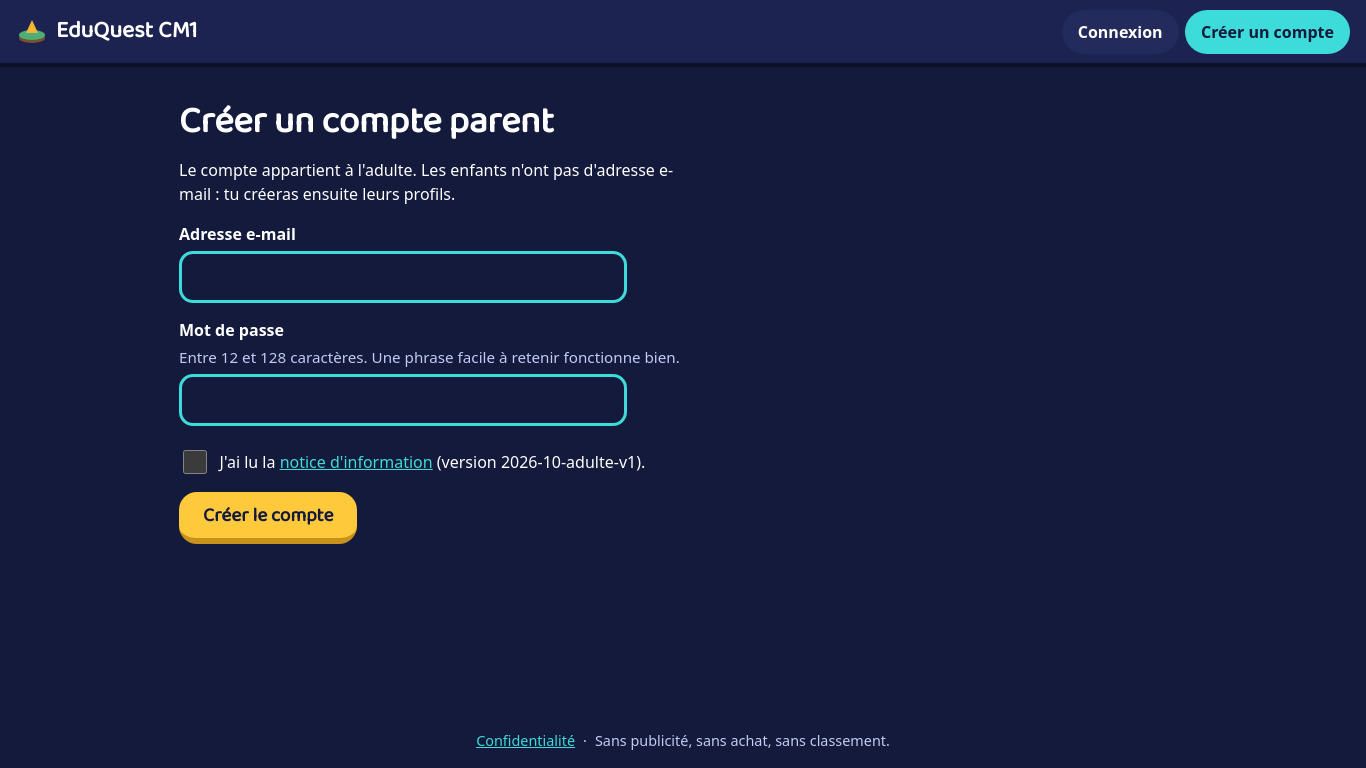
Test: formulaires adultes › l'inscription exige 12 caractères et la lecture de la notice avant tout envoi
Type "adulte@exemple.test" into the field labelled "Adresse e-mail".
click(403, 277); type("adulte@exemple.test")  # box [179,251,627,303]
Type "court" into the password field labelled "Mot de passe".
click(403, 400); type("court")  # box [179,374,627,426]
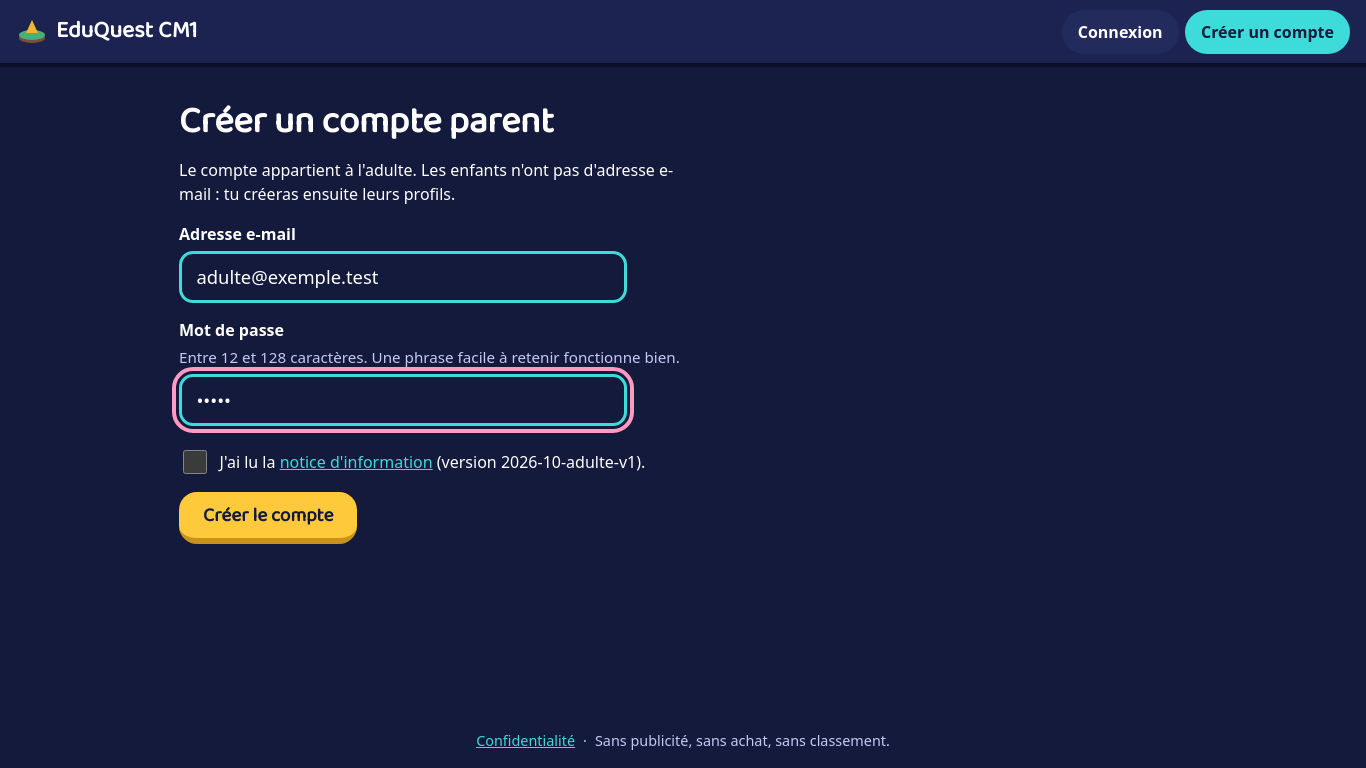
Click the button "Créer le compte".
click(268, 518)  # box [179,492,357,544]
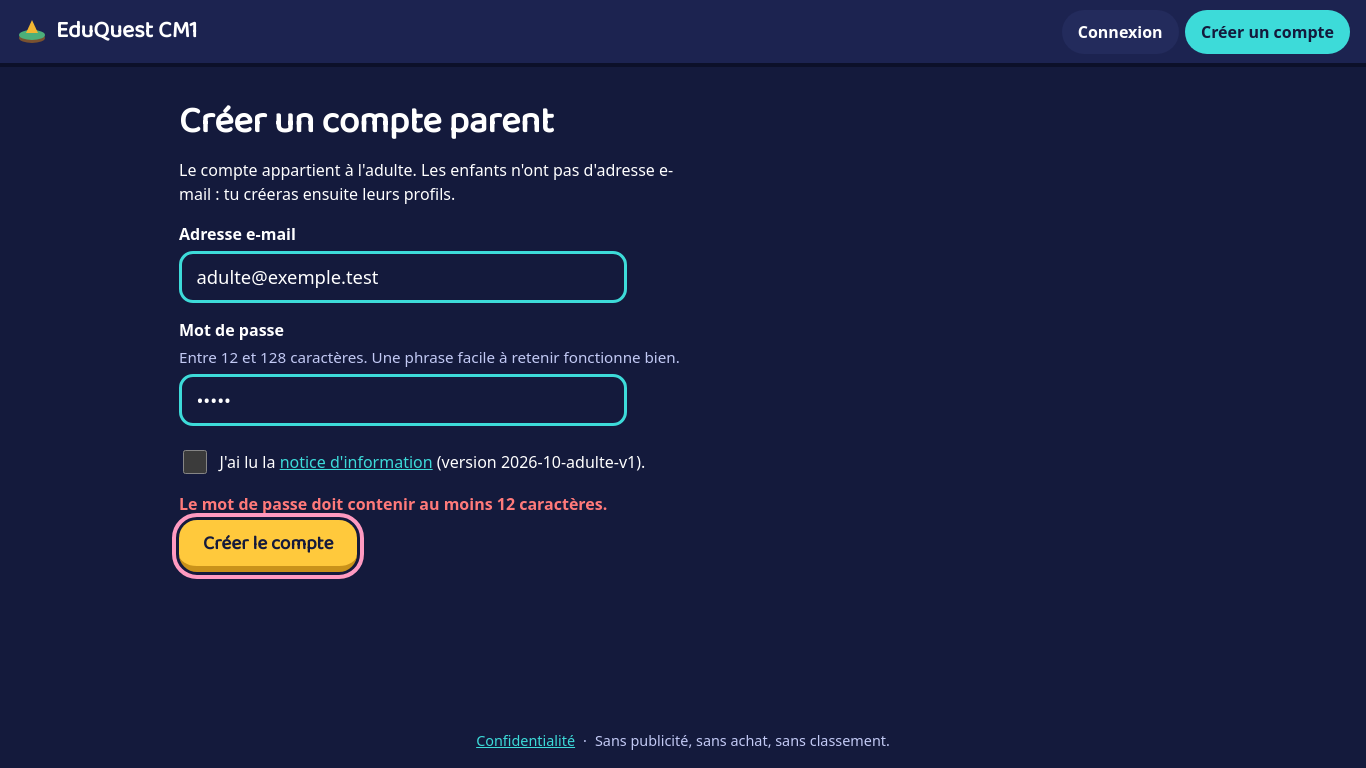
expect the message shows "au moins 12 caractères": met, box [179,493,607,515]
Type " mais assez long" into the password field labelled "Mot de passe".
click(403, 400); type(" mais assez long")  # box [179,374,627,426]
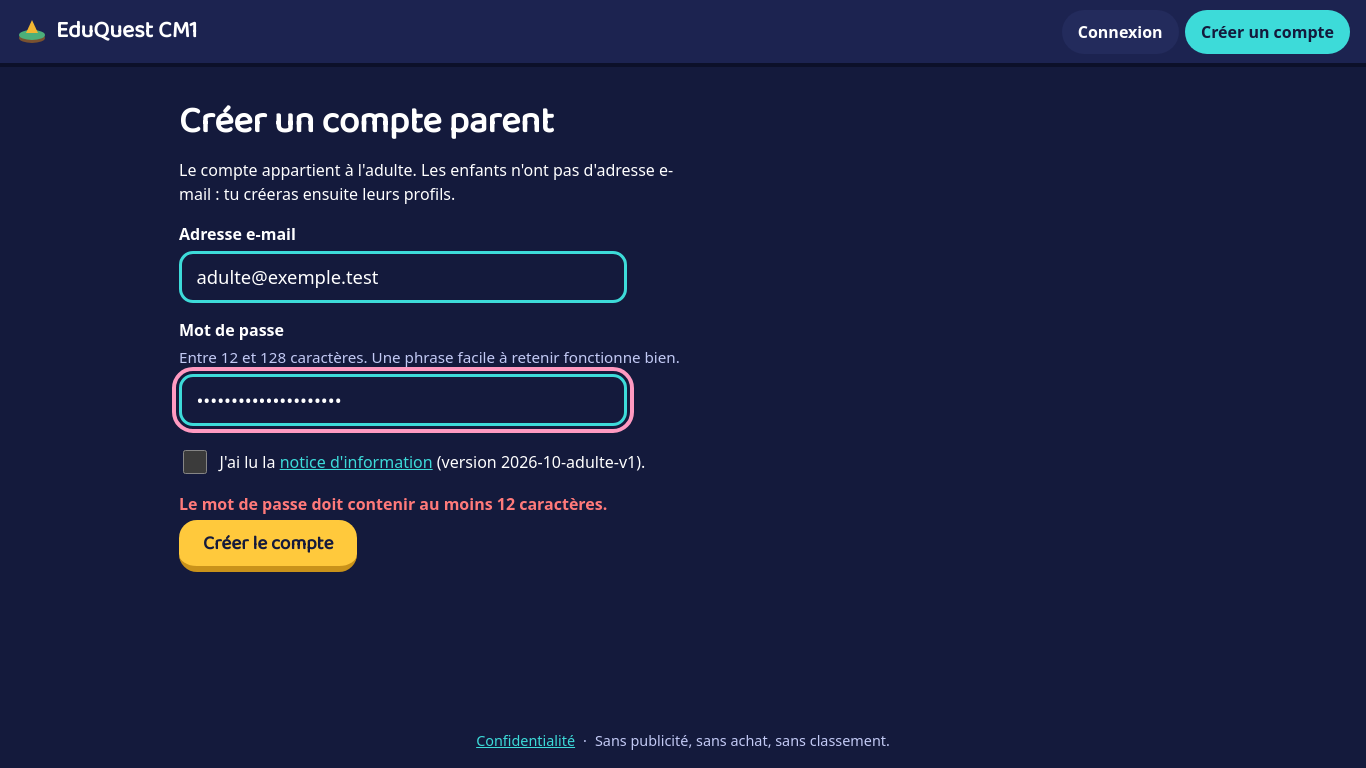
Click the button "Créer le compte".
click(268, 546)  # box [179,520,357,572]
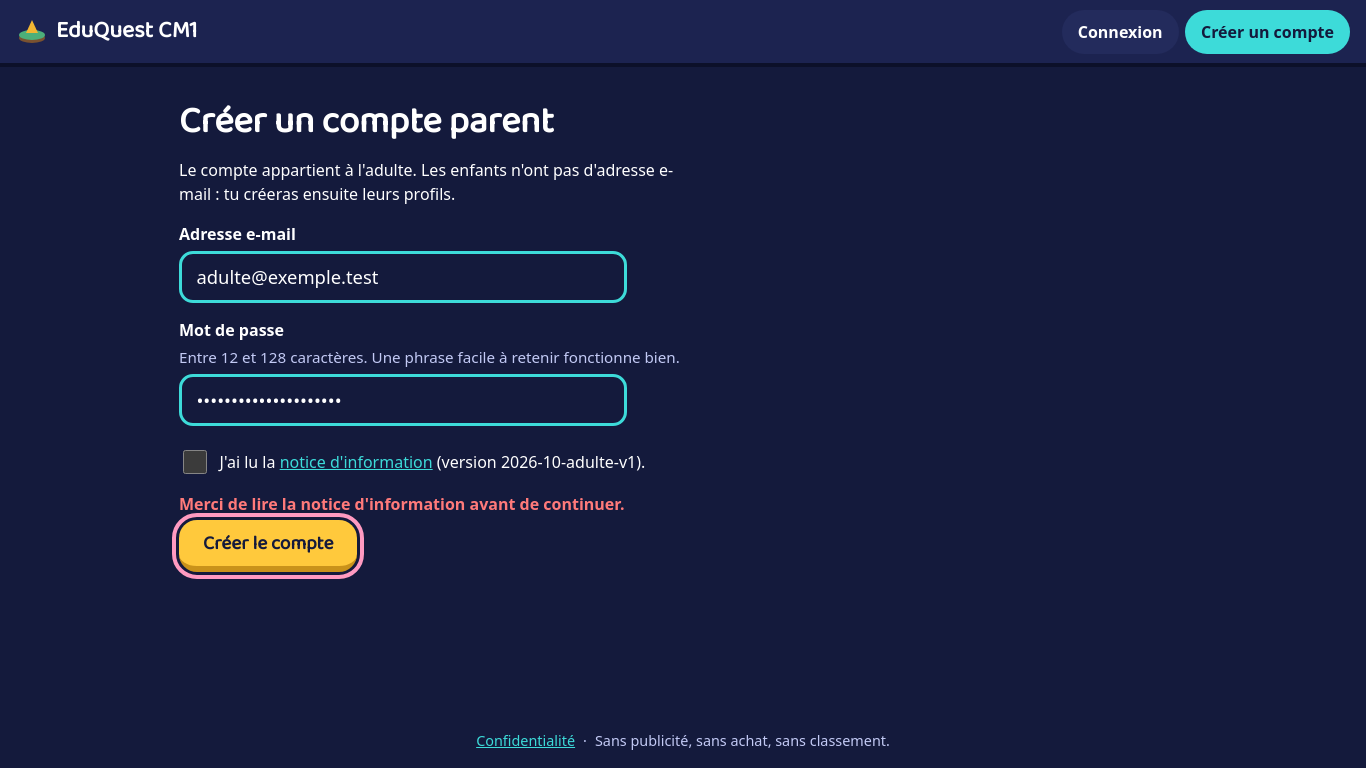
expect the message shows "notice": met, box [179,493,624,515]
Click the checkbox.
click(195, 462)  # box [183,450,207,474]
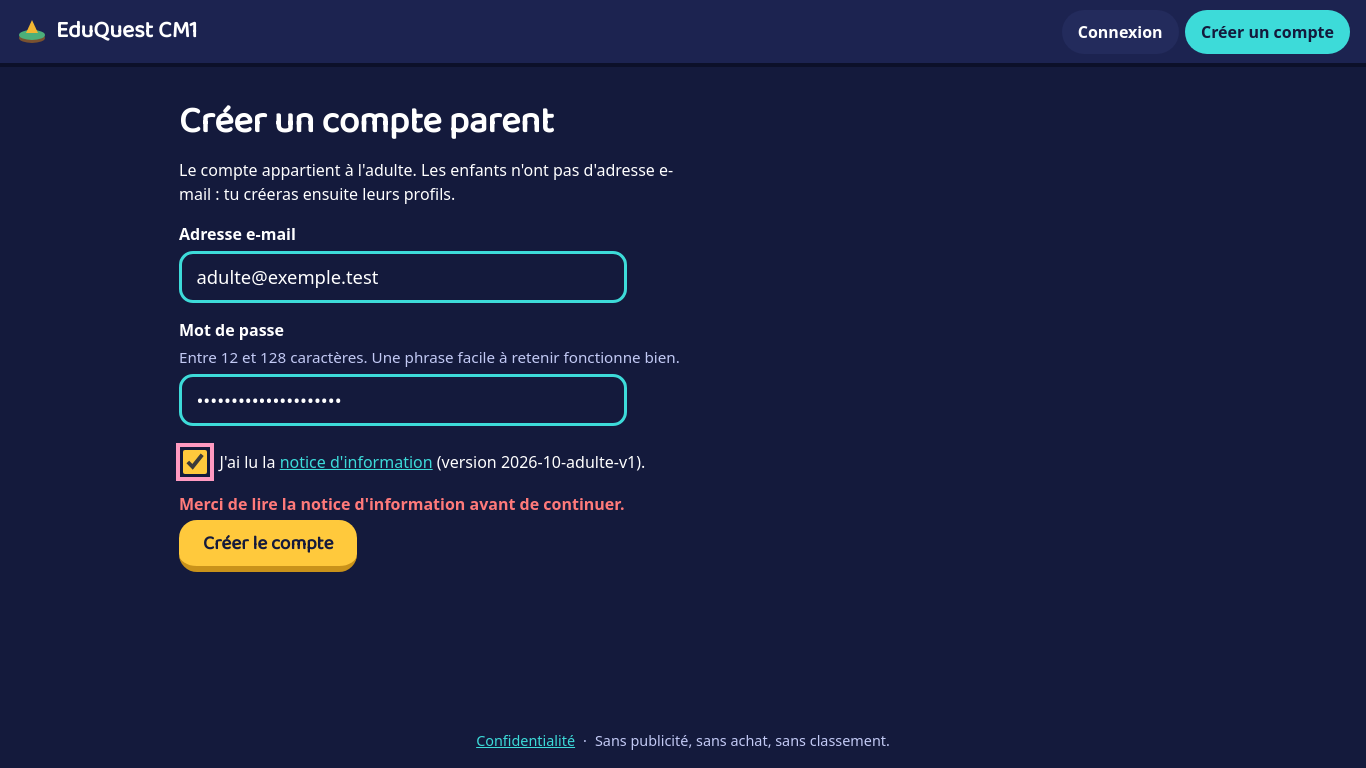
Click the button "Créer le compte".
click(268, 546)  # box [179,520,357,572]
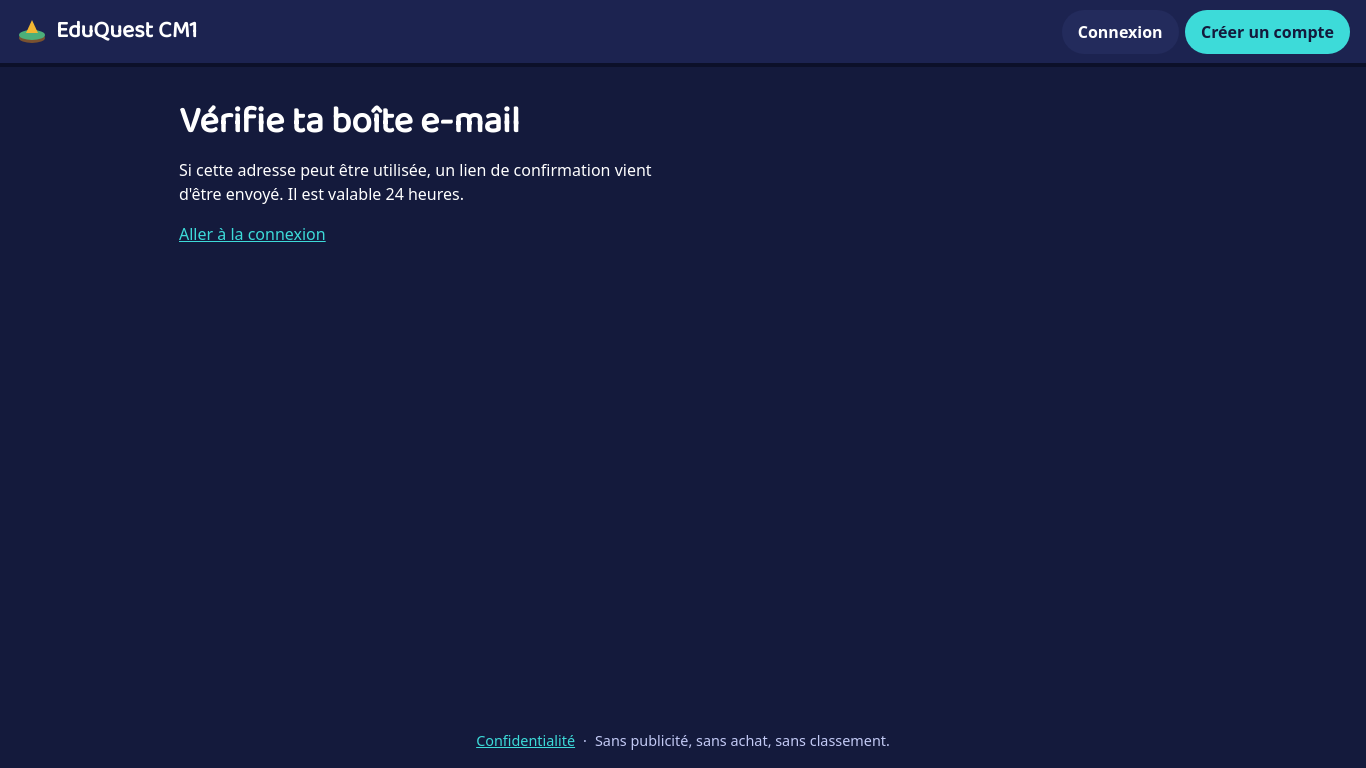
expect the heading "Vérifie ta boîte e-mail" is shown: met, box [179,92,520,151]
